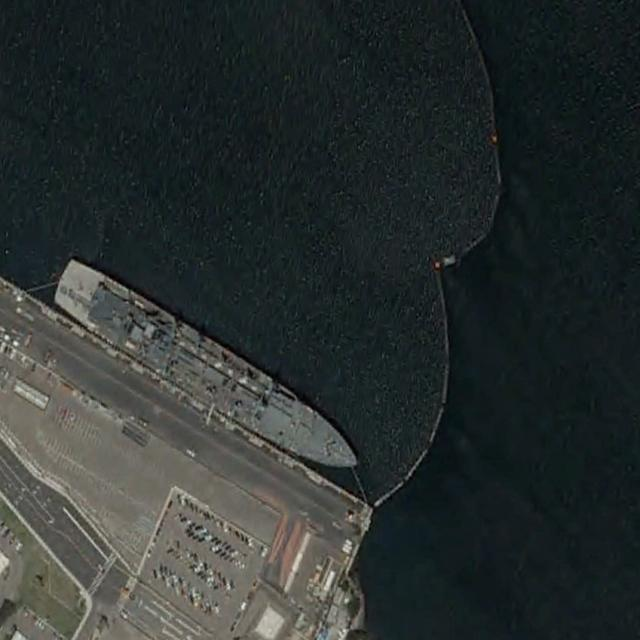Commander: (49, 252, 369, 490)
